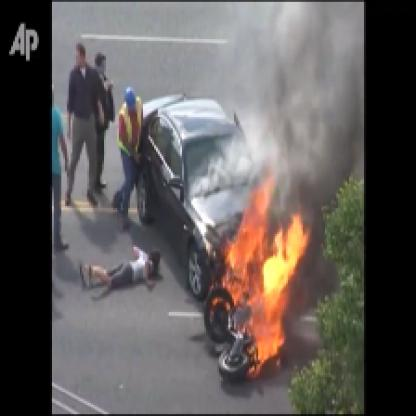Fire: (206, 160, 308, 379)
Smoke: (228, 2, 364, 171)
